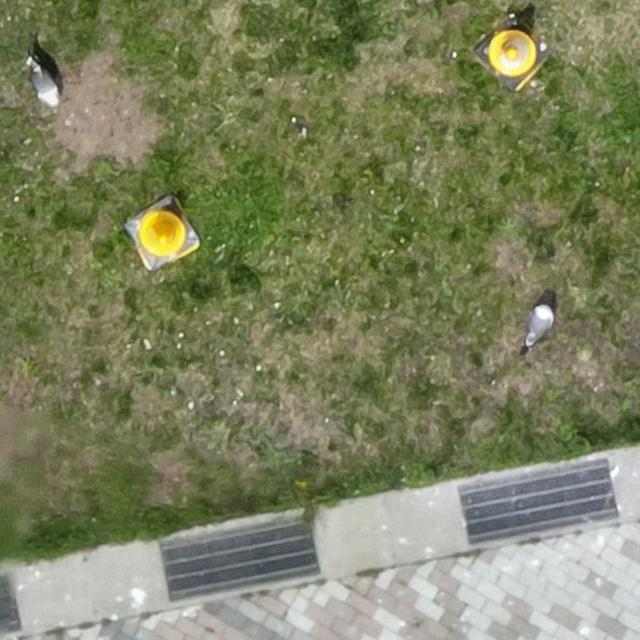umineko: (524, 303, 558, 352), (31, 58, 59, 108)
